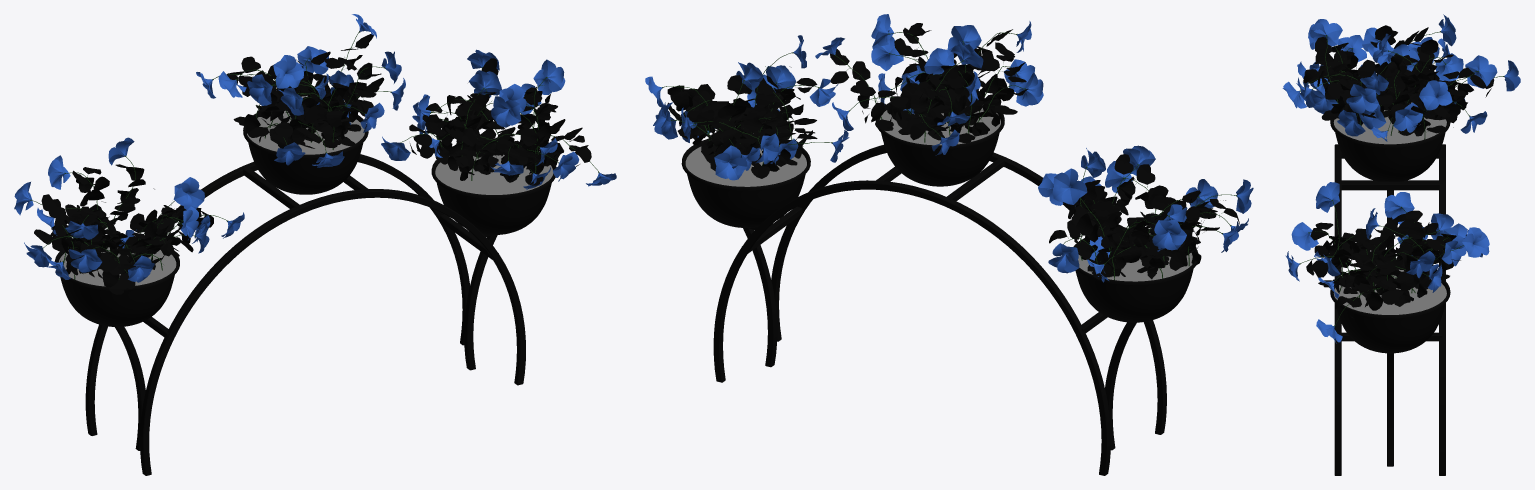
3 views of the same model, side by side, from view 1: azimuth 30°, elevation 25°; view 2: azimuth 150°, elevation 25°; view 3: azimuth 270°, elevation 25° (orthographic). The views are drawn at different scales.
Parts seen in each view (by area): view 1: iFlowers-05-11, iFlowers-05-11PS, 3D学院 模型无限, iFlowers-05-11C; view 2: iFlowers-05-11, iFlowers-05-11PS, 3D学院 模型无限, iFlowers-05-11C; view 3: iFlowers-05-11, 3D学院 模型无限, iFlowers-05-11PS, iFlowers-05-11C.
Part boxes in pixels (x1,y1,x2,y2): iFlowers-05-11: (14,14,405,294); iFlowers-05-11PS: (54,111,556,475); 3D学院 模型无限: (381,49,616,189); iFlowers-05-11C: (58,110,553,286); iFlowers-05-11: (815,14,1253,282); iFlowers-05-11PS: (681,102,1197,475); 3D学院 模型无限: (645,35,849,180); iFlowers-05-11C: (685,108,1192,281); iFlowers-05-11: (1282,14,1520,141); 3D学院 模型无限: (1285,182,1489,343); iFlowers-05-11PS: (1330,120,1450,475); iFlowers-05-11C: (1333,102,1446,314).
Bounding box in the file's own units: 1796 × 1096 × 687.
